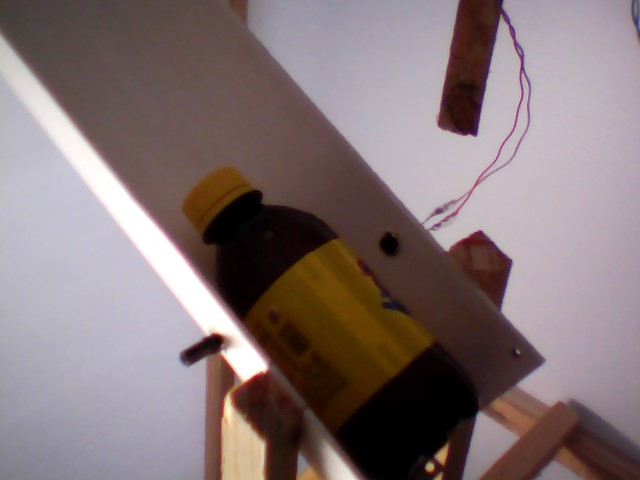plastico: (170, 164, 484, 480)
